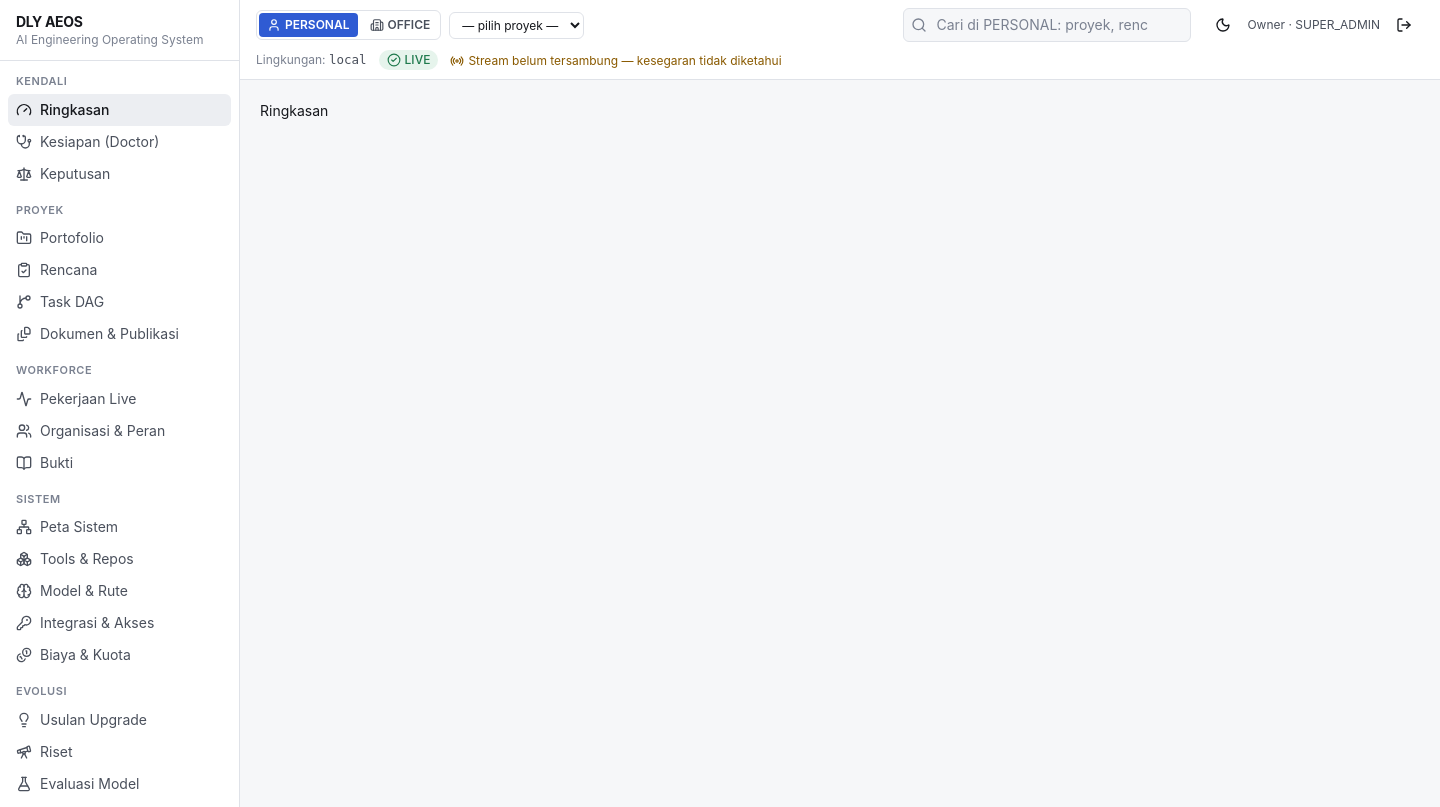
global metadata search (GET /api/search) › queries the domain-scoped search endpoint and links to the record
This screenshot has width=1440, height=807.
Disabled until the human-chosen domain is known (domain-first, U-05).
Type "DLY" into the search field named "Cari metadata" at (1047, 25), box [903,8,1191,42]
Then press Enter
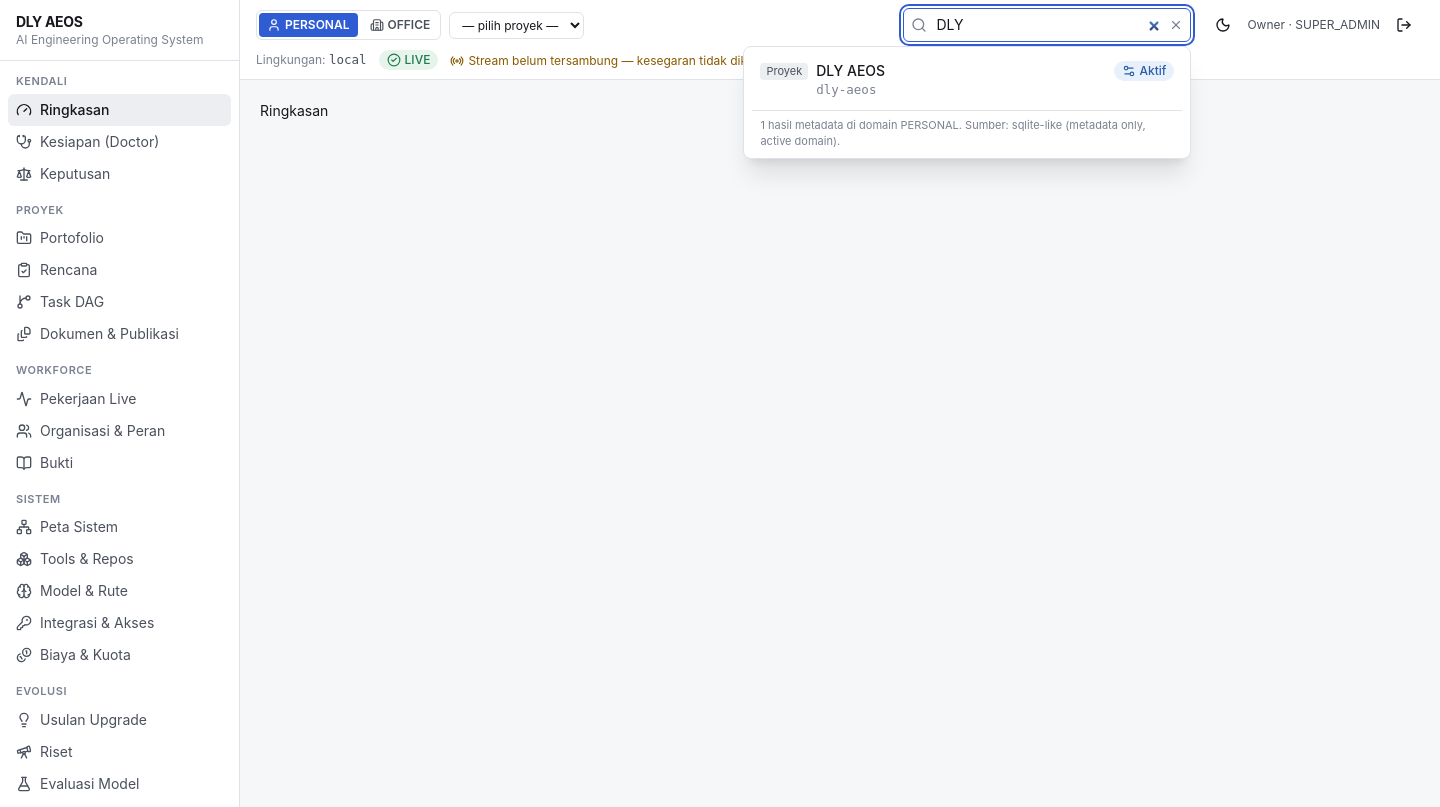
expect the text "1 hasil metadata di domain PERSONAL" is shown: met, box [752,110,1182,150]
Click the link "Proyek DLY AEOS dly-aeos Aktif" at (784, 71), box [752,55,1182,106]
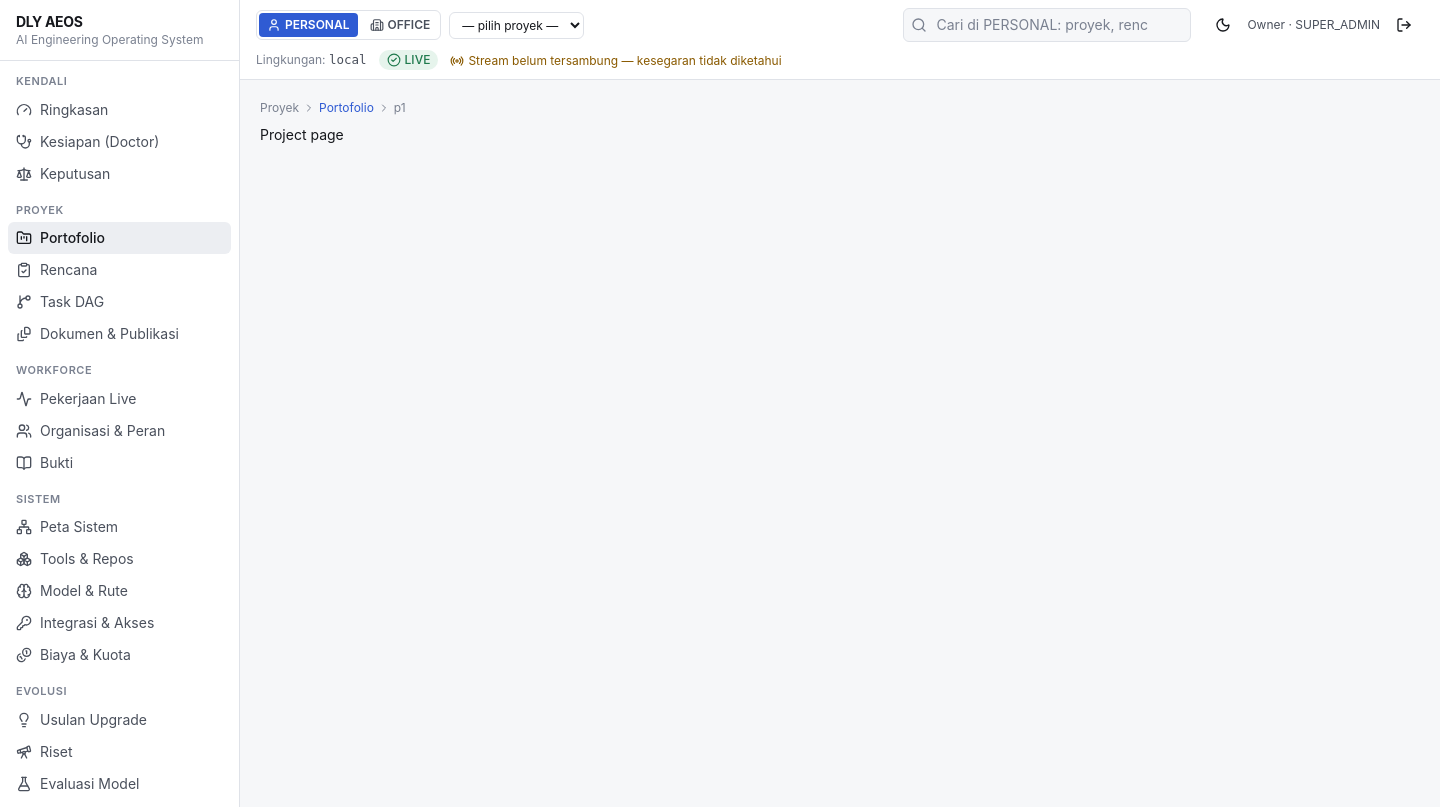
expect the heading "Project page" is shown: met, box [260,126,344,143]
